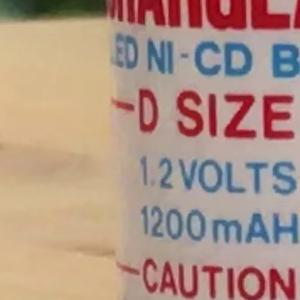NI-CD: (124, 32, 262, 79)
